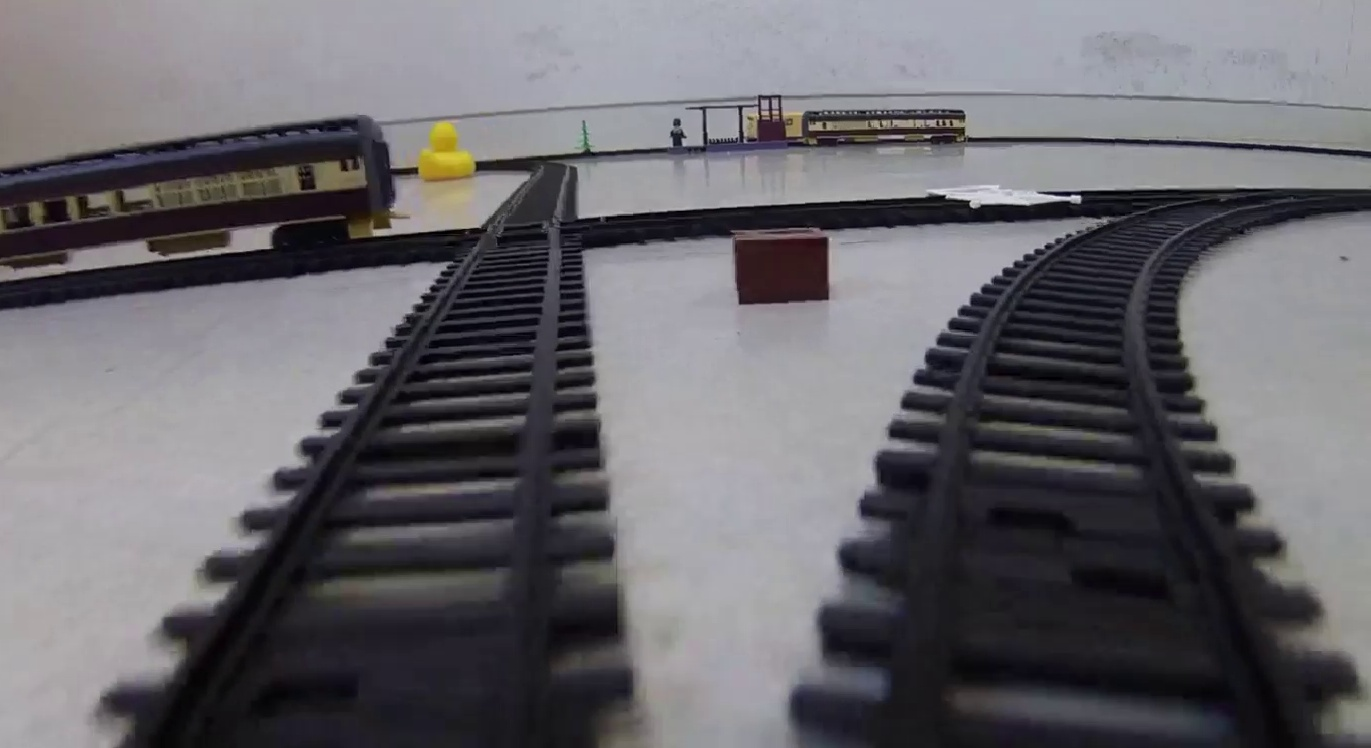box: (736, 230, 829, 299)
web: (927, 183, 1077, 210)
